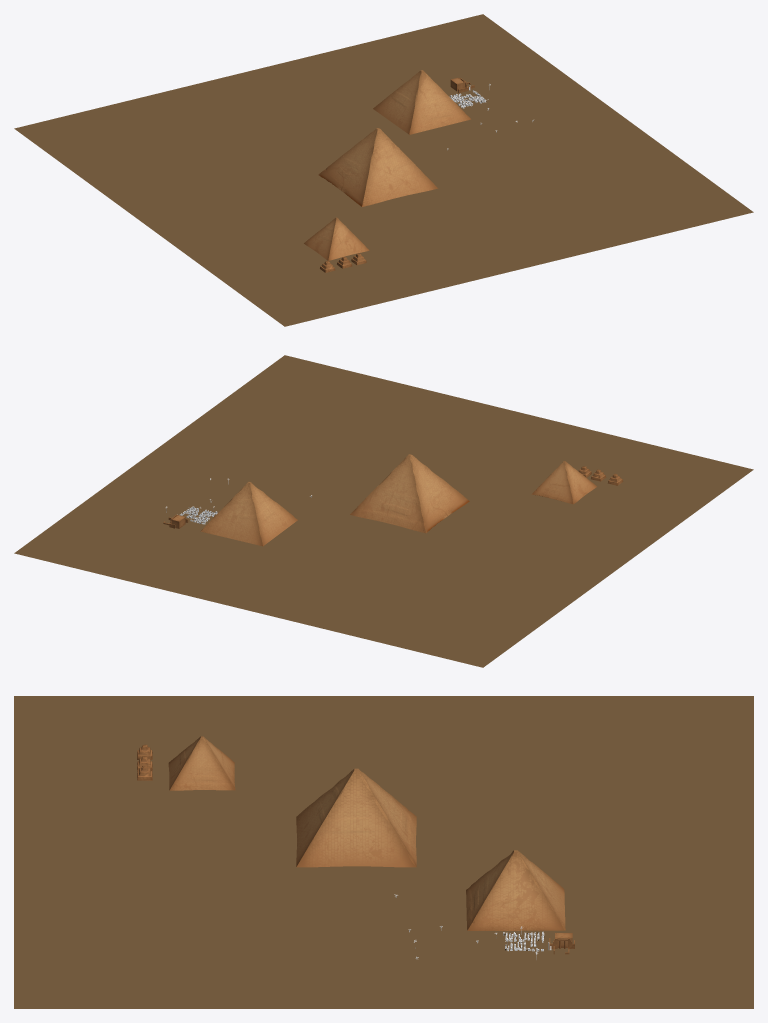
The model's file is pyramids exspanse.fbx.
3 views of the same model, one above another, from view 1: azimuth 30°, elevation 25°; view 2: azimuth 150°, elevation 25°; view 3: azimuth 270°, elevation 25° (orthographic). The views are drawn at different scales.
Visible parts, largest first — view 1: Plane.001, Cube, Cube.002, Cube.001; view 2: Plane.001, Cube, Cube.002, Cube.001; view 3: Plane.001, Cube, Cube.002, Cube.001, Plane.
Boxes of the visible parts, x1,y1,x2,y2 form: Plane.001: (14,14,753,326); Cube: (318,128,437,206); Cube.002: (373,70,470,134); Cube.001: (304,217,369,260); Plane.001: (14,355,753,667); Cube: (350,454,469,533); Cube.002: (200,482,297,546); Cube.001: (531,461,596,504); Plane.001: (14,696,753,1008); Cube: (296,768,416,867); Cube.002: (466,850,565,930); Cube.001: (168,736,235,790); Plane: (500,933,544,951).
Size of the model in its own units: 142255 by 15746 by 142255.
